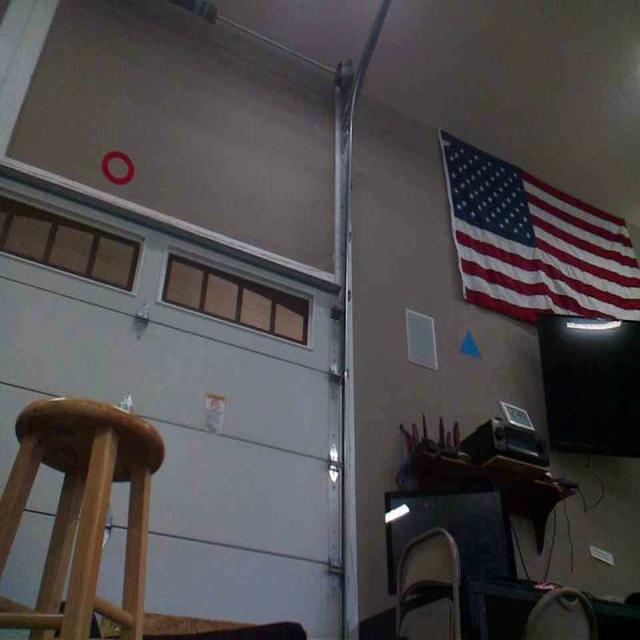ring_red: (101, 148, 135, 185)
triangle_blue: (458, 328, 484, 360)
